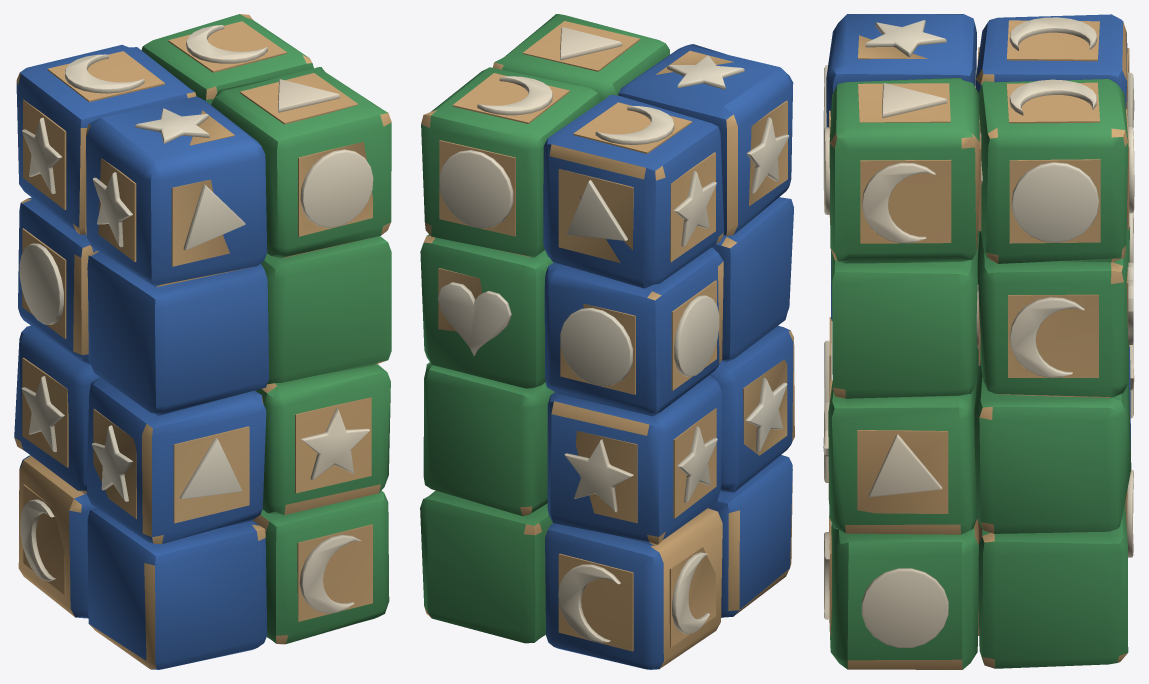
The model's file is den_castle_keep.glb.
The picture shows the model from 3 angles, left to right: view 1: azimuth 30°, elevation 25°; view 2: azimuth 150°, elevation 25°; view 3: azimuth 270°, elevation 25°; orthographic projection. The views are drawn at different scales.
Parts seen in each view (by area): view 1: den_castle_keep; view 2: den_castle_keep; view 3: den_castle_keep.
Boxes of the visible parts, x1,y1,x2,y2 form: den_castle_keep: [14, 14, 391, 669]; den_castle_keep: [420, 14, 794, 669]; den_castle_keep: [823, 14, 1134, 669].
Size of the model in its own units: 9.42 by 18.21 by 9.4.
